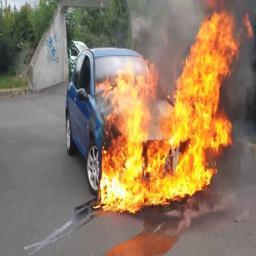fire: (97, 0, 238, 214)
